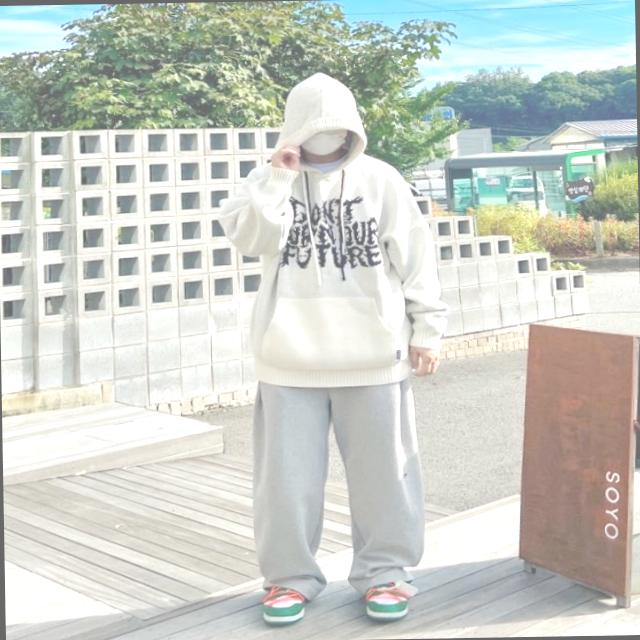denimpants: (247, 375, 422, 595)
hoodies: (219, 70, 455, 380)
